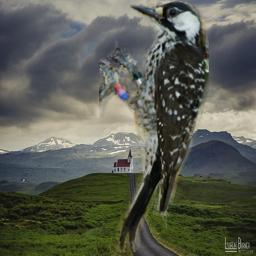Woodpecker: (99, 1, 209, 252)
